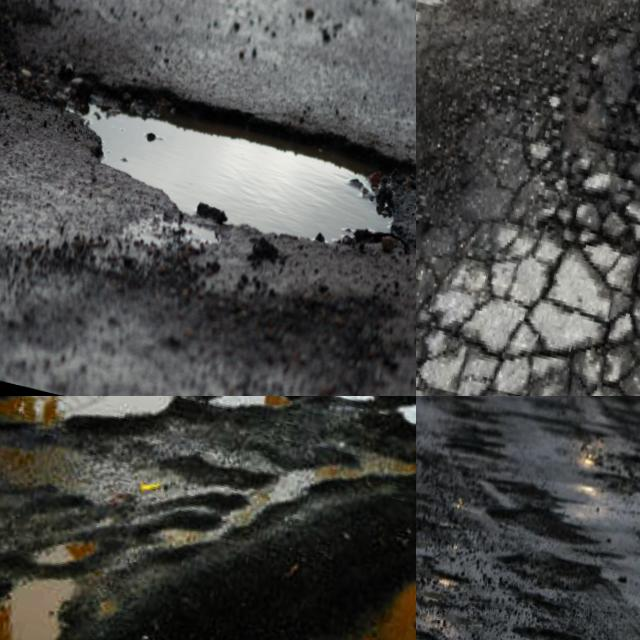Potholes: (22, 16, 416, 327), (104, 469, 416, 640), (531, 0, 640, 393), (0, 396, 235, 514), (439, 437, 601, 602), (0, 478, 127, 640), (120, 396, 346, 485), (458, 530, 614, 640), (416, 396, 513, 492), (416, 553, 493, 640), (416, 396, 445, 561)
